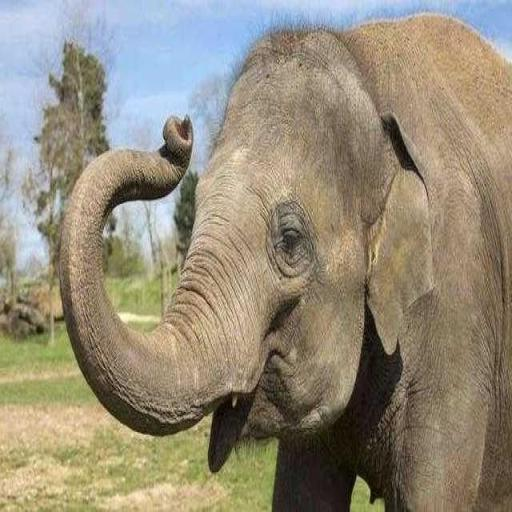Elephant: (56, 12, 511, 510)
